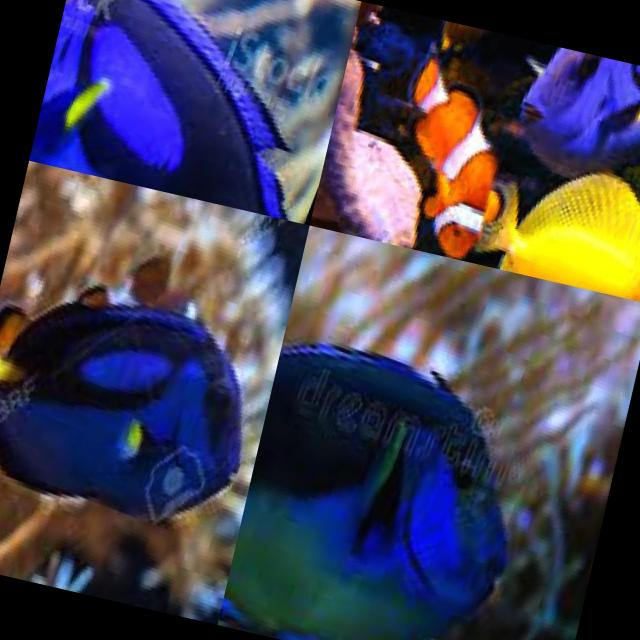BlueTang: (217, 337, 528, 640), (0, 276, 282, 538), (28, 0, 302, 213), (510, 42, 640, 195)
ButterflyFish: (488, 161, 640, 303)
ClownFish: (376, 50, 530, 264)
